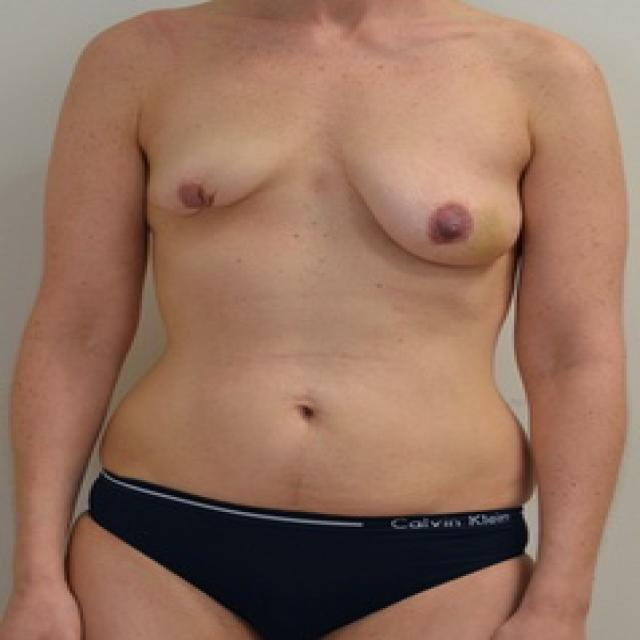Seno herido: (331, 92, 541, 281), (129, 92, 326, 282)
